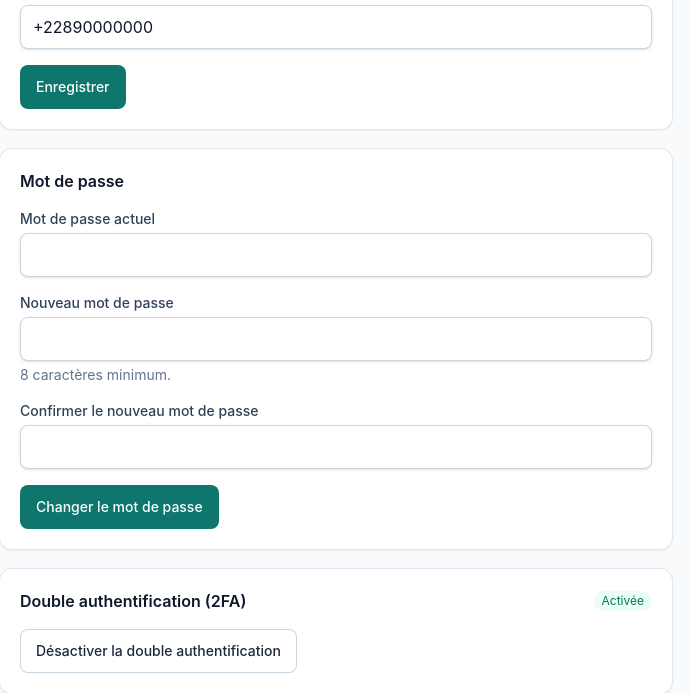
Test case: page Profil › désactive le 2FA seulement après saisie d'un code
(page scrolled)
Click the button "Désactiver la double authentification" at [158, 651], box [20,629,297,673]
(page scrolled)
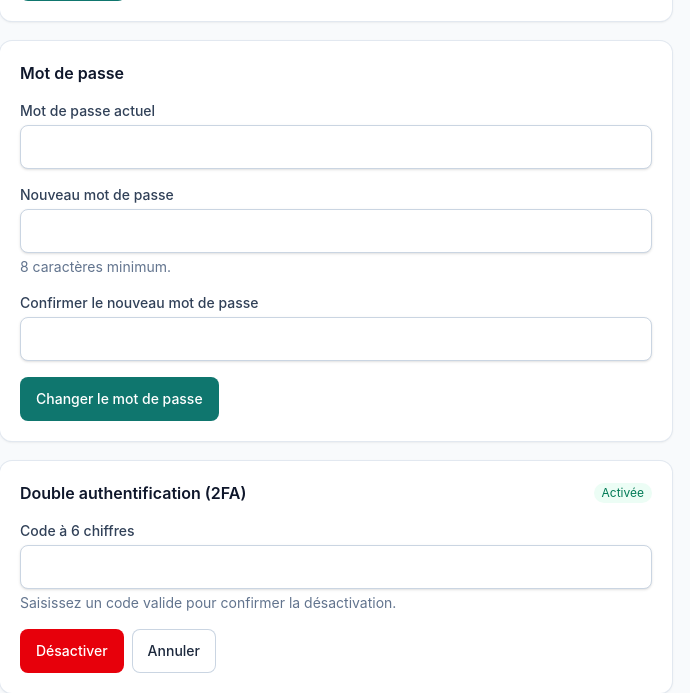
Type "123456" into the field labelled "Code à 6 chiffres" at [336, 567], box [20,545,652,589]
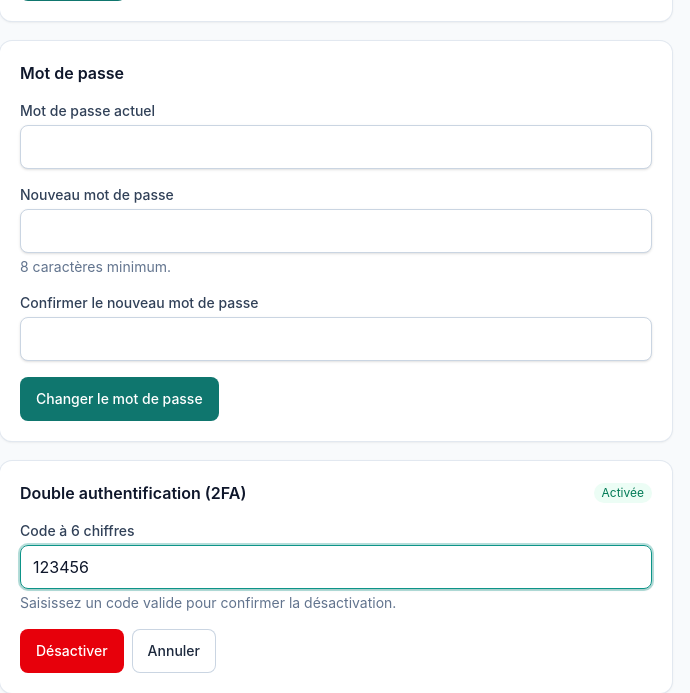
Click the button "Désactiver" at [72, 651], box [20,629,124,673]
(page scrolled)
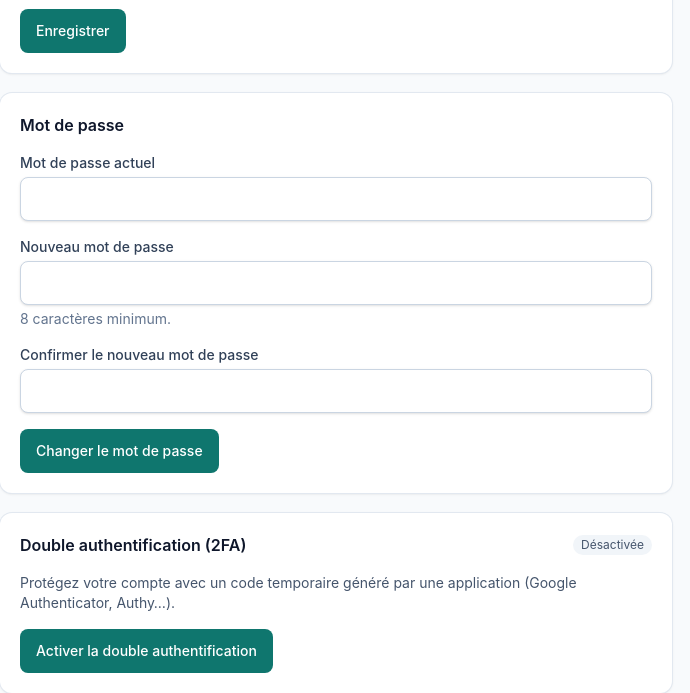
Result: the text "Désactivée" is shown at [573,535,652,555]
